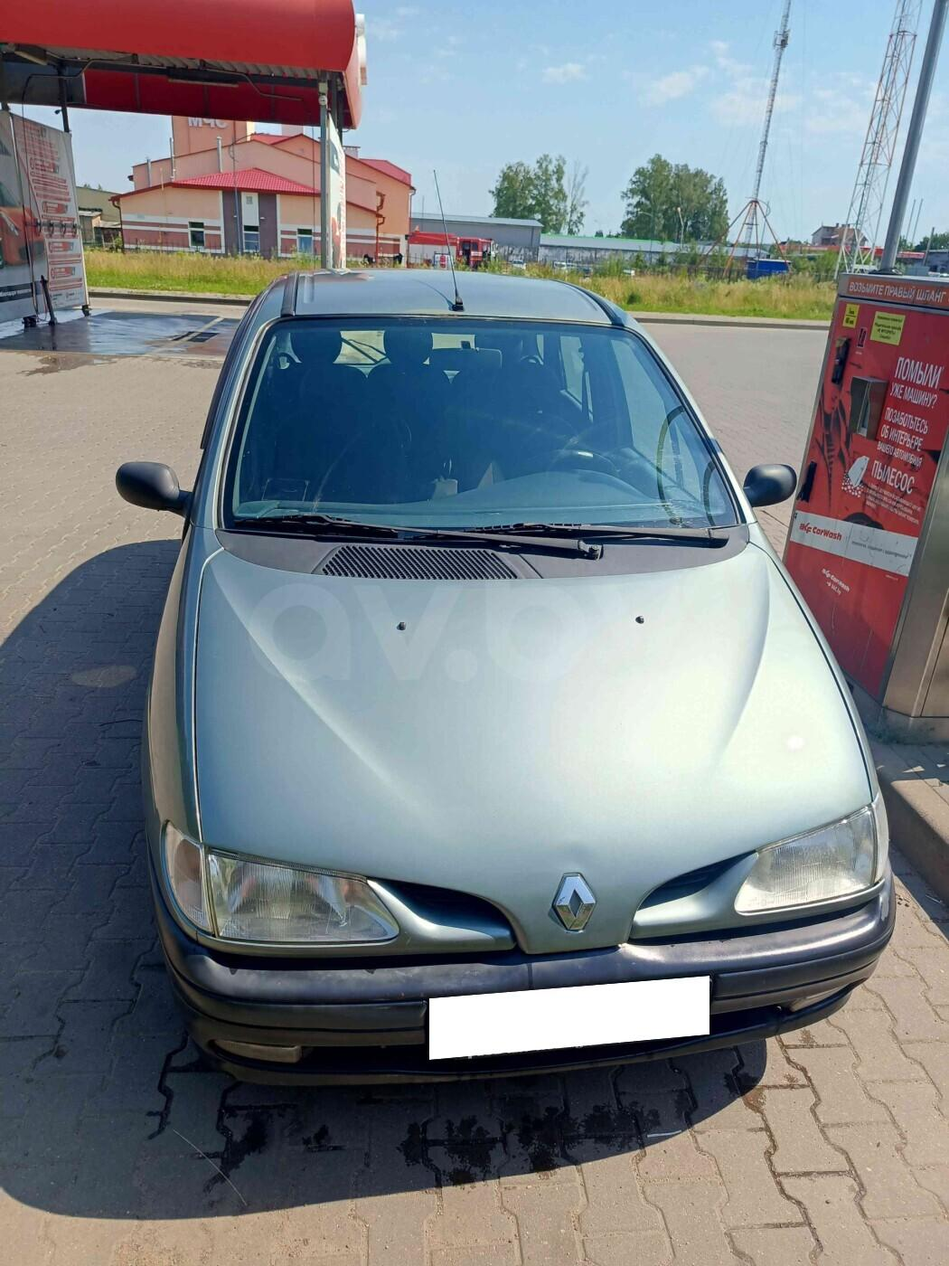Megane_1995-1999: (119, 257, 907, 1098)
